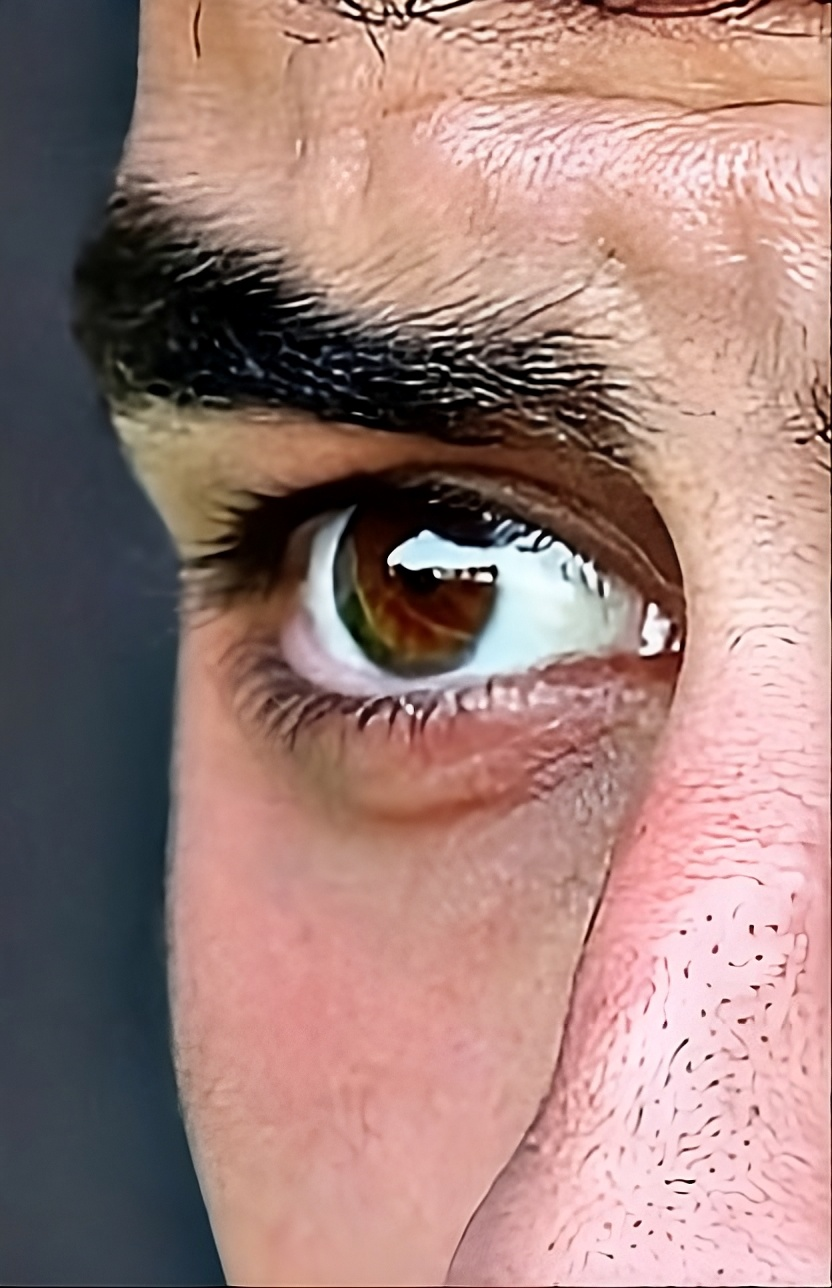iris: (332, 495, 503, 685)
pupil: (382, 532, 450, 600)
sclera: (438, 513, 645, 684), (303, 513, 373, 678)
